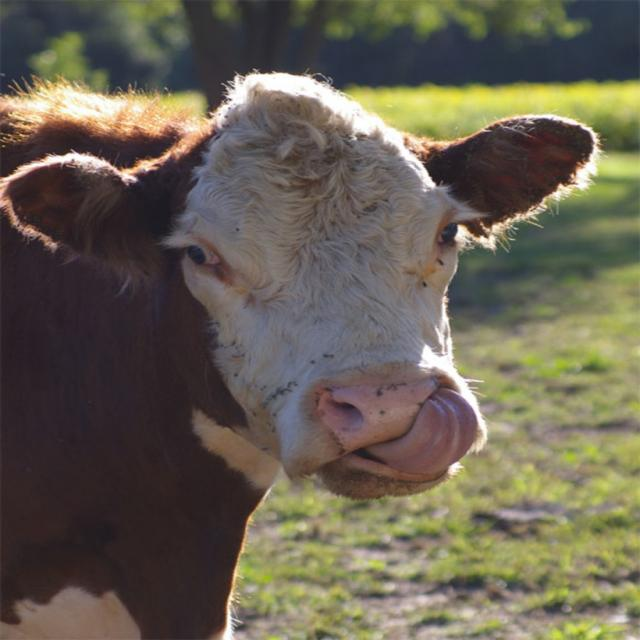Cattle: (0, 66, 609, 640)
